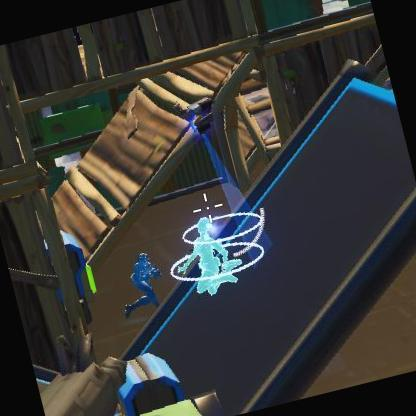person: (132, 250, 166, 312)
